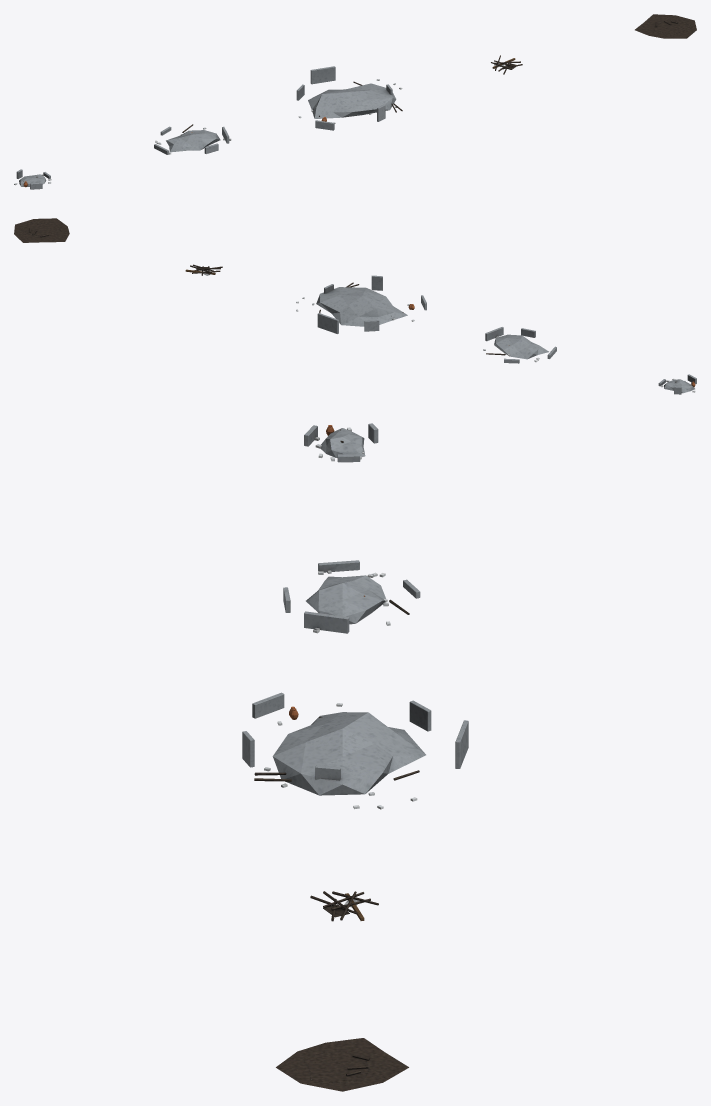
The model's file is ruins-future.glb.
The picture shows the model from 3 angles, top to bottom: view 1: azimuth 30°, elevation 25°; view 2: azimuth 150°, elevation 25°; view 3: azimuth 270°, elevation 25°; orthographic projection. The views are drawn at different scales.
Visible parts, largest first — view 1: LOD0.002, LOD0.001, LOD0.004, LOD0; view 2: LOD0.002, LOD0.001, LOD0.004, LOD0; view 3: LOD0.002, LOD0.004, LOD0.001, LOD0.
Part boxes in pixels (left/top/right/bottom): LOD0.002: left=296, top=66, right=402, bottom=130; LOD0.001: left=154, top=124, right=231, bottom=154; LOD0.004: left=635, top=14, right=696, bottom=38; LOD0: left=14, top=169, right=51, bottom=189; LOD0.002: left=296, top=275, right=426, bottom=333; LOD0.001: left=483, top=327, right=556, bottom=363; LOD0.004: left=14, top=218, right=69, bottom=242; LOD0: left=658, top=374, right=696, bottom=394; LOD0.002: left=242, top=692, right=468, bottom=809; LOD0.004: left=276, top=1038, right=408, bottom=1091; LOD0.001: left=283, top=560, right=420, bottom=633; LOD0: left=304, top=423, right=378, bottom=462.
Size of what is drawn, in the model's own units: 12.9 by 0.2533 by 1.86.
1 material, 1 textured.
